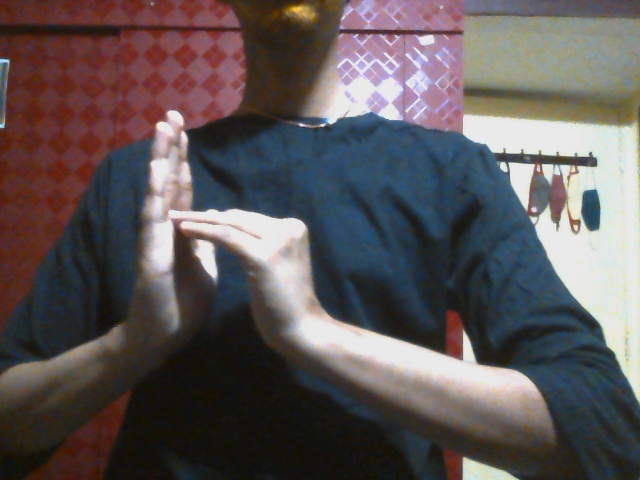Z: (110, 107, 331, 385)
